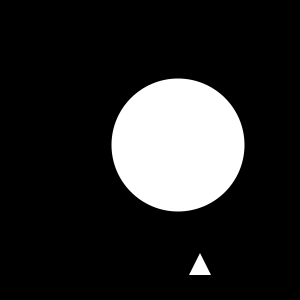rectangle: (112, 78, 245, 212)
triangle: (189, 253, 211, 275)
